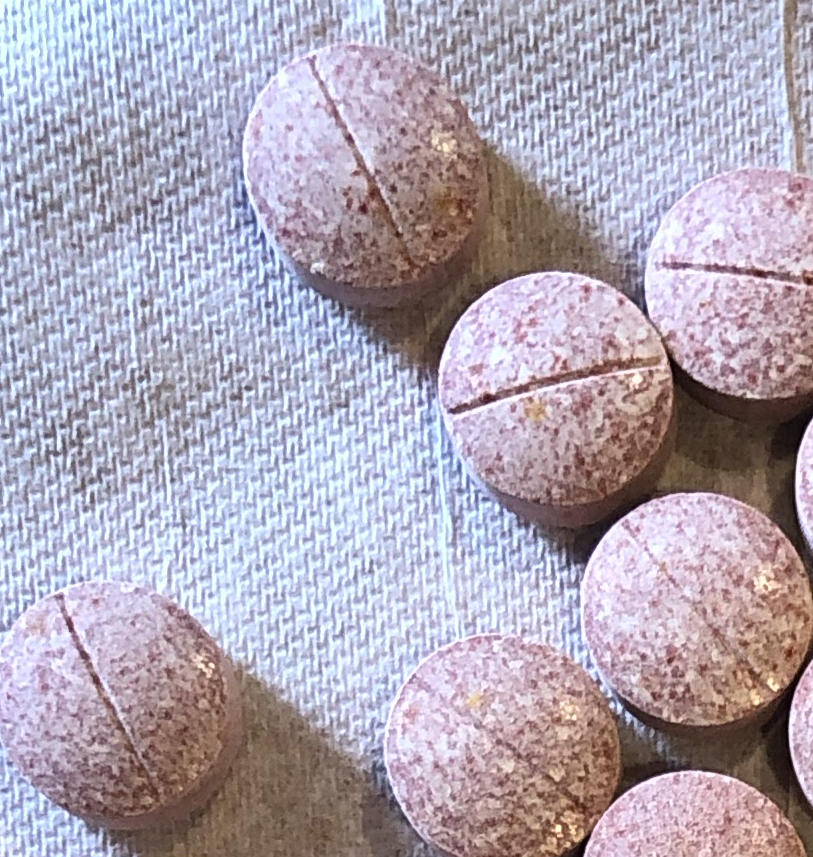tablet: (234, 40, 494, 307), (438, 269, 677, 532), (5, 576, 246, 828), (581, 487, 813, 735), (382, 628, 622, 857), (644, 157, 813, 422), (586, 768, 811, 857)
